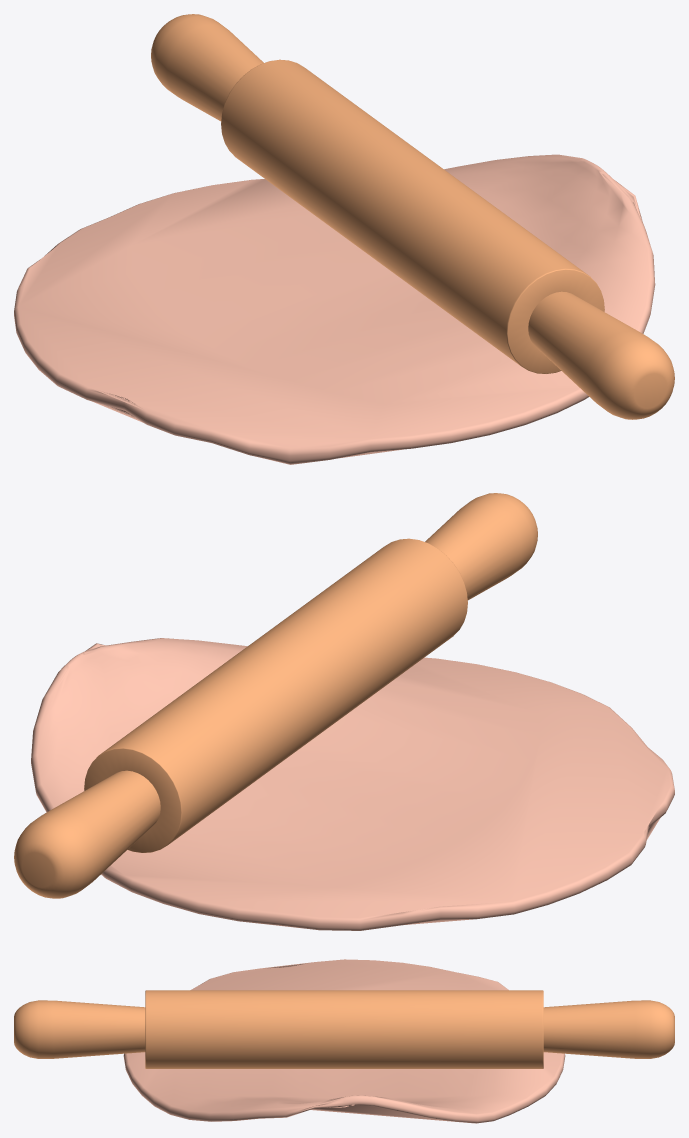
Rendered from rollinpinsmaller.glb.
The picture shows the model from 3 angles, top to bottom: view 1: azimuth 30°, elevation 25°; view 2: azimuth 150°, elevation 25°; view 3: azimuth 270°, elevation 25°; orthographic projection. The views are drawn at different scales.
Visible parts, largest first — view 1: BezierCircle.001, Cylinder.004; view 2: BezierCircle.001, Cylinder.004; view 3: Cylinder.004, BezierCircle.001.
Boxes of the visible parts, x1,y1,x2,y2 form: BezierCircle.001: (14, 154, 655, 464); Cylinder.004: (151, 14, 674, 419); BezierCircle.001: (31, 638, 674, 930); Cylinder.004: (14, 493, 537, 898); Cylinder.004: (14, 990, 674, 1068); BezierCircle.001: (123, 959, 565, 1123).
Size of the model in its own units: 2.6 by 0.665 by 3.84.
